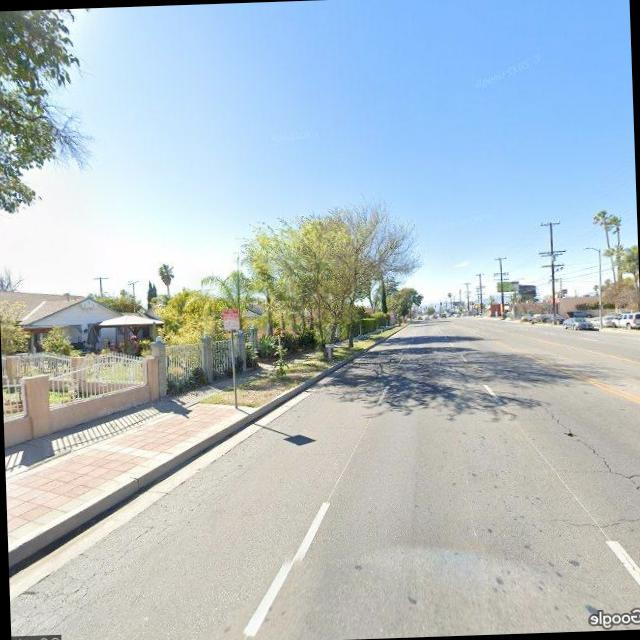crack: (12, 446, 254, 630)
pothole: (510, 368, 640, 500)
